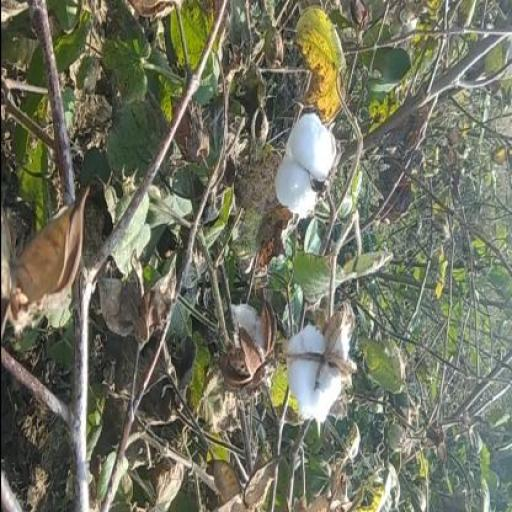cotton_ready: (275, 298, 359, 434), (264, 104, 342, 238)
